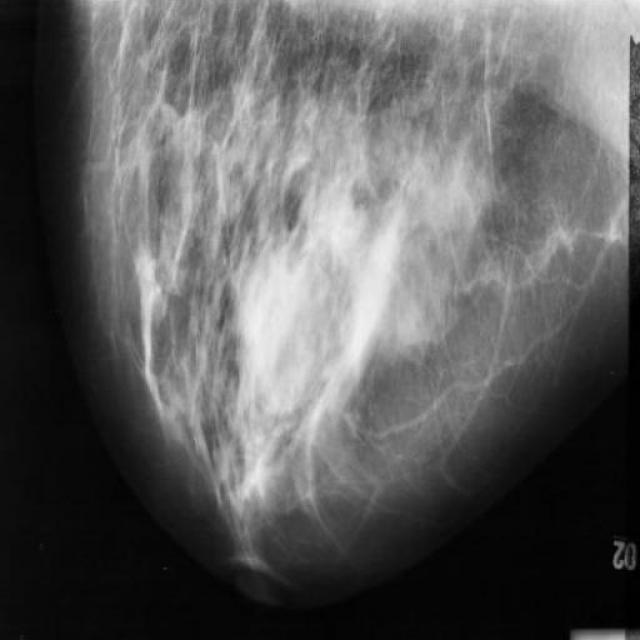cancer: (234, 429, 298, 518)
